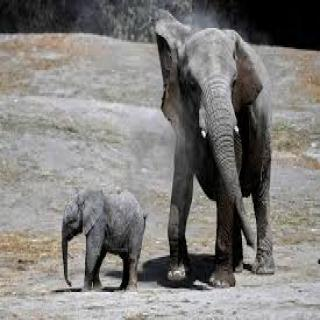Elephant: (151, 5, 284, 292), (58, 180, 148, 296)
